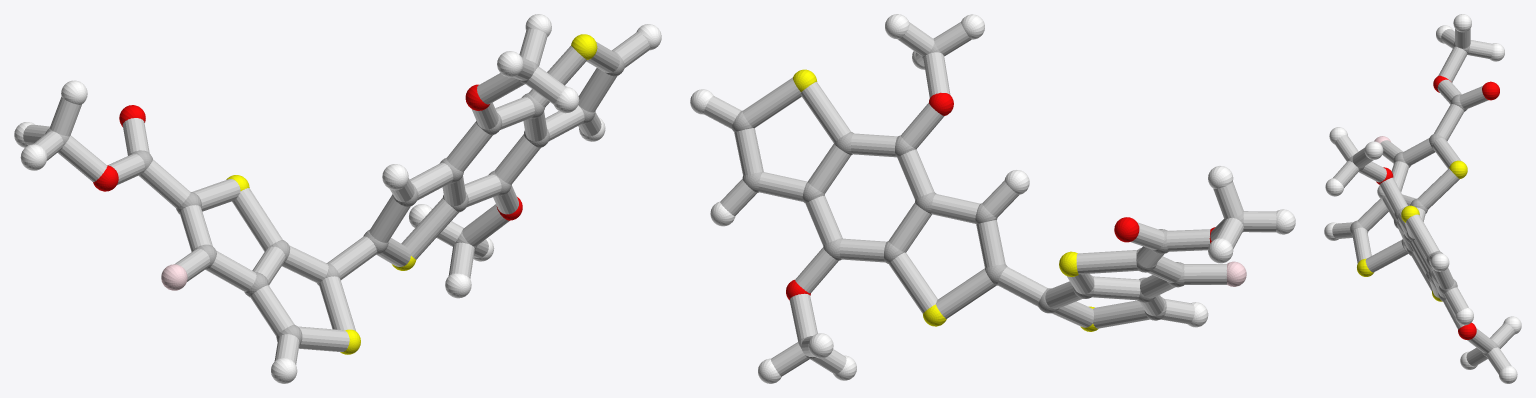
The model's file is Dimethoxy_Benzodithiophene_Phi_30_Theta_250_Methylcarbonyl_3_Fluoro_Thienothiophene.glb.
3 views of the same model, side by side, from view 1: azimuth 30°, elevation 25°; view 2: azimuth 150°, elevation 25°; view 3: azimuth 270°, elevation 25° (orthographic). The views are drawn at different scales.
Visible parts, largest first — view 1: grp15205, grp8689, grp1, grp13395, grp7241, grp14843; view 2: grp15205, grp8689, grp1, grp13395, grp7241; view 3: grp15205, grp8689, grp1, grp13395, grp7241.
Part boxes in pixels (x1,y1,x2,y2): grp15205: (23, 28, 650, 364); grp8689: (14, 14, 661, 383); grp1: (45, 50, 624, 345); grp13395: (93, 84, 522, 220); grp7241: (226, 34, 597, 354); grp14843: (161, 264, 187, 290); grp15205: (703, 22, 1276, 376); grp8689: (690, 14, 1295, 383); grp1: (731, 42, 1243, 359); grp13395: (786, 92, 1215, 300); grp7241: (793, 69, 1098, 331); grp15205: (1332, 28, 1514, 374); grp8689: (1324, 14, 1521, 383); grp1: (1348, 41, 1499, 356); grp13395: (1376, 75, 1499, 339); grp7241: (1357, 160, 1467, 301).
Bounding box in the file's own units: 16.53 × 8.19 × 6.34.
